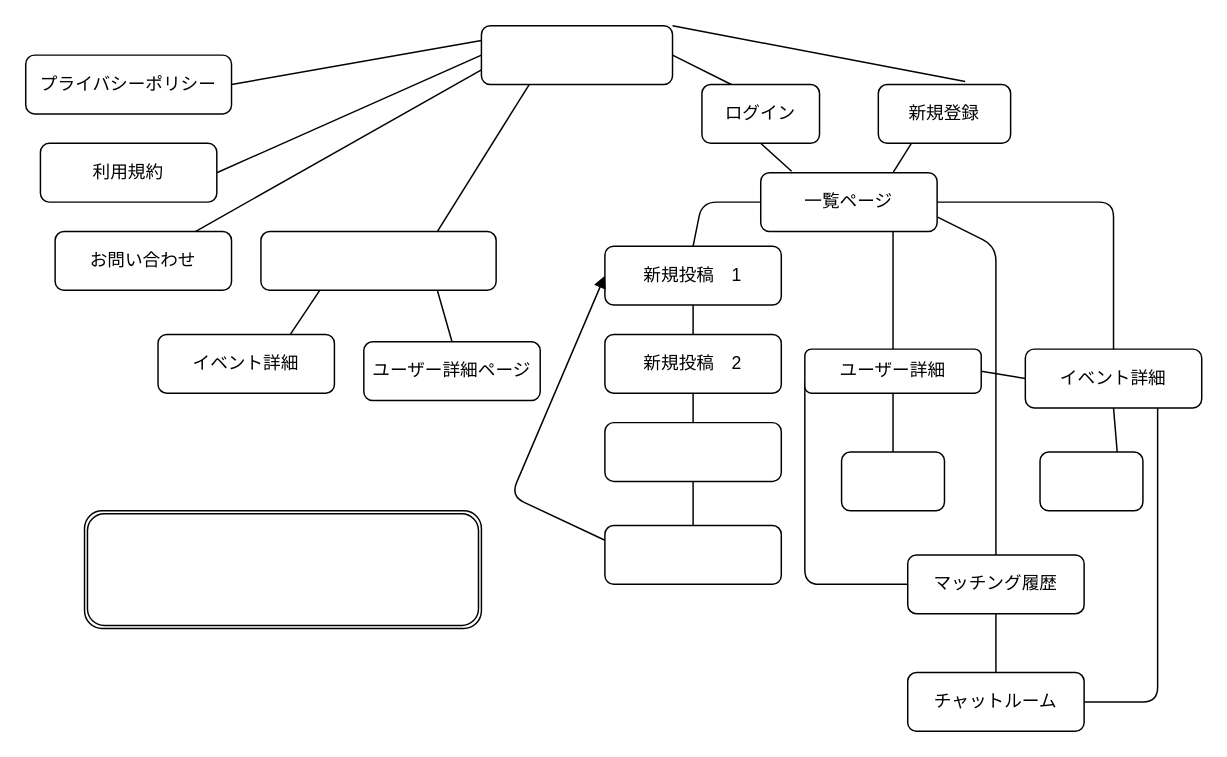
This 1227x757 diagram has some shape labels left out. The shapes that lost their labels are listed below. From the top down, each one's centre as x and y in pixels, then its label:
At point (576, 54): "トップページ".
At point (377, 260): "一覧ページ（ゲスト）".
At point (692, 451): "新規投稿 3".
At point (892, 481): "ユーザー 編集".
At point (1091, 481): "イベント 編集".
At point (282, 568): "共通のヘッダー、フッターにより イベント一覧ページとトップページへは 基本的にどこからでもいける".
At point (692, 554): "投稿最終確認".
